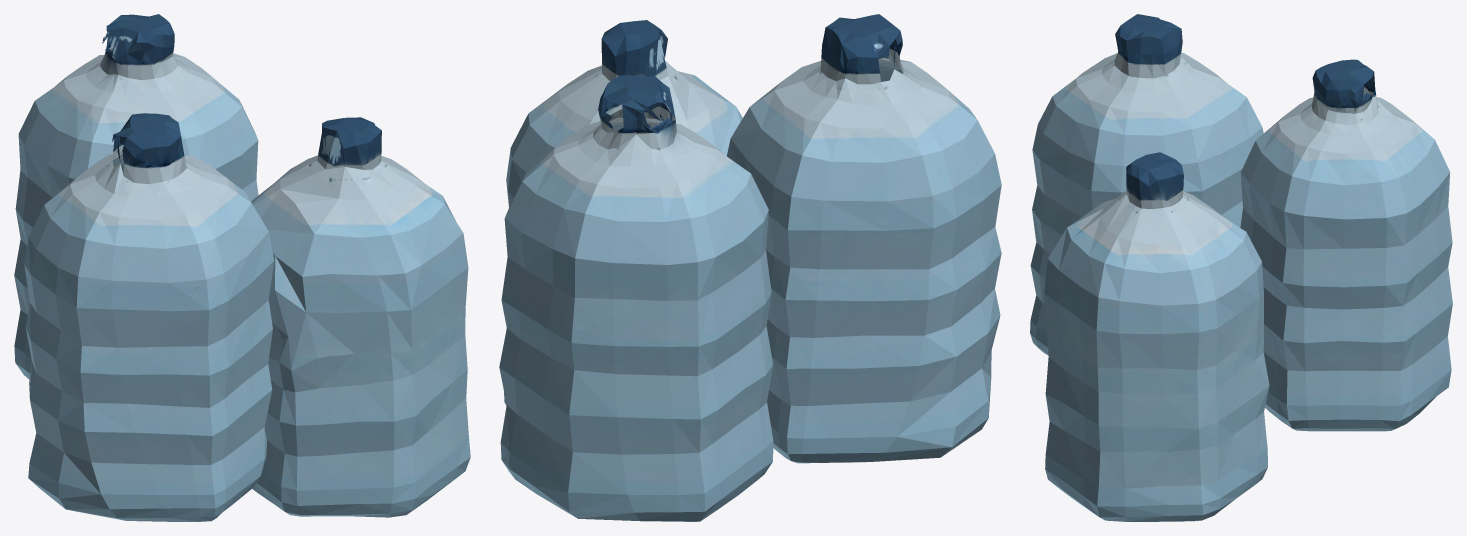
Rendered from water_bottle2.obj.
3 views of the same model, side by side, from view 1: azimuth 30°, elevation 25°; view 2: azimuth 150°, elevation 25°; view 3: azimuth 270°, elevation 25° (orthographic). The views are drawn at different scales.
Parts seen in each view (by area): view 1: tripo_node_179af288-6e8e-4983-8e71-20b19750dc94; view 2: tripo_node_179af288-6e8e-4983-8e71-20b19750dc94; view 3: tripo_node_179af288-6e8e-4983-8e71-20b19750dc94.
Boxes of the visible parts, left/top/right/bottom form: tripo_node_179af288-6e8e-4983-8e71-20b19750dc94: left=14, top=14, right=470, bottom=521; tripo_node_179af288-6e8e-4983-8e71-20b19750dc94: left=499, top=14, right=1001, bottom=521; tripo_node_179af288-6e8e-4983-8e71-20b19750dc94: left=1030, top=14, right=1452, bottom=521.
Bounding box in the file's own units: 0.9837 × 0.955 × 0.9834.
